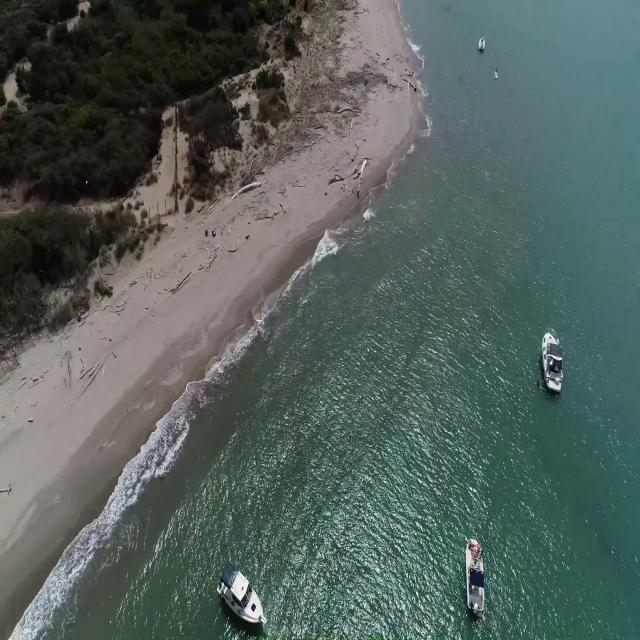boat: (216, 558, 266, 628), (464, 536, 488, 616), (542, 326, 564, 398), (477, 35, 486, 52)
person: (496, 64, 500, 76)
surfboard: (494, 69, 501, 82)
wood: (323, 154, 370, 200)
